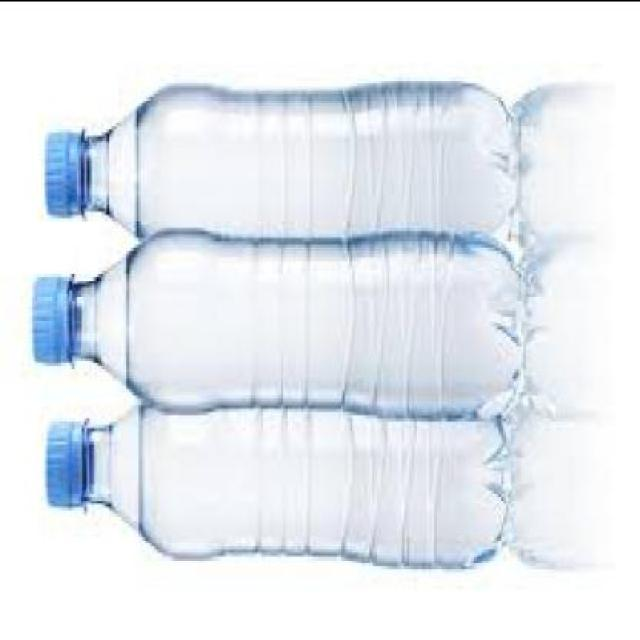PLASTIC: (30, 233, 524, 421), (39, 81, 516, 272), (45, 400, 509, 571), (28, 272, 77, 368), (40, 128, 89, 220), (42, 423, 87, 515)
